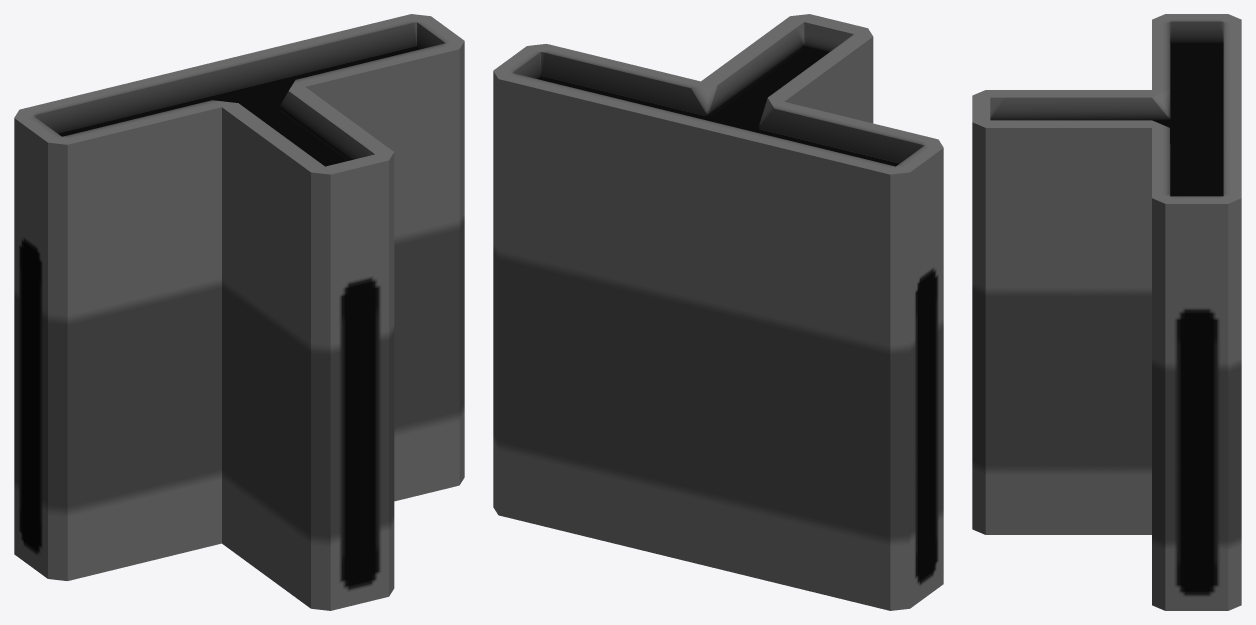
Rendered from wall_double_two_t1.fbx.
3 renders of one model, left to right at view 1: azimuth 30°, elevation 25°; view 2: azimuth 150°, elevation 25°; view 3: azimuth 270°, elevation 25°, orthographic. The views are drawn at different scales.
Visible parts, largest first — view 1: wall_double_twoe_t1; view 2: wall_double_twoe_t1; view 3: wall_double_twoe_t1.
Boxes of the visible parts, x1=… form: wall_double_twoe_t1: x1=14, y1=14, x2=464, y2=610; wall_double_twoe_t1: x1=493, y1=14, x2=943, y2=610; wall_double_twoe_t1: x1=972, y1=14, x2=1241, y2=610.
Bounding box in the file's own units: 1 × 1 × 0.6.
Materials: 1 (1 with a texture image).
